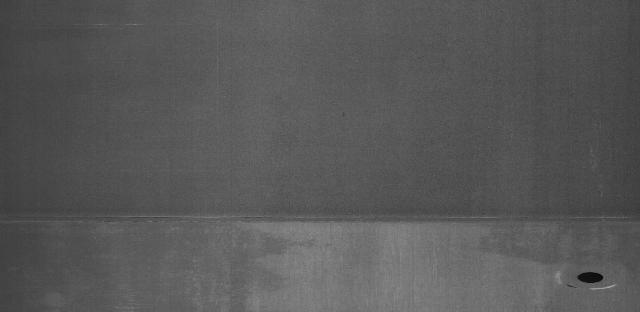punching_hole: (573, 268, 608, 288)
welding_line: (3, 208, 637, 229)
